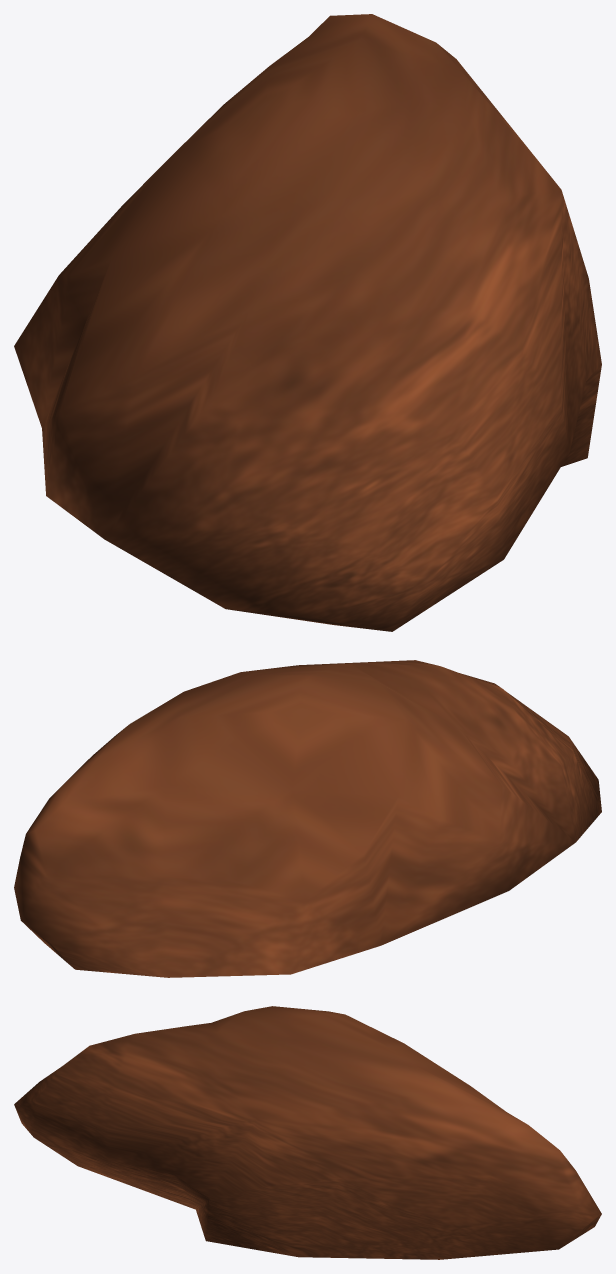
File: roca 4.fbx
The picture shows the model from 3 angles, top to bottom: view 1: azimuth 30°, elevation 25°; view 2: azimuth 150°, elevation 25°; view 3: azimuth 270°, elevation 25°; orthographic projection. The views are drawn at different scales.
Visible parts, largest first — view 1: Rock10.002; view 2: Rock10.002; view 3: Rock10.002.
Part boxes in pixels (<box>): Rock10.002: <box>14,14,601,631</box>; Rock10.002: <box>14,660,601,977</box>; Rock10.002: <box>14,1006,601,1259</box>.
Bounding box in the file's own units: 215 × 114 × 333.
1 material, 1 textured.
